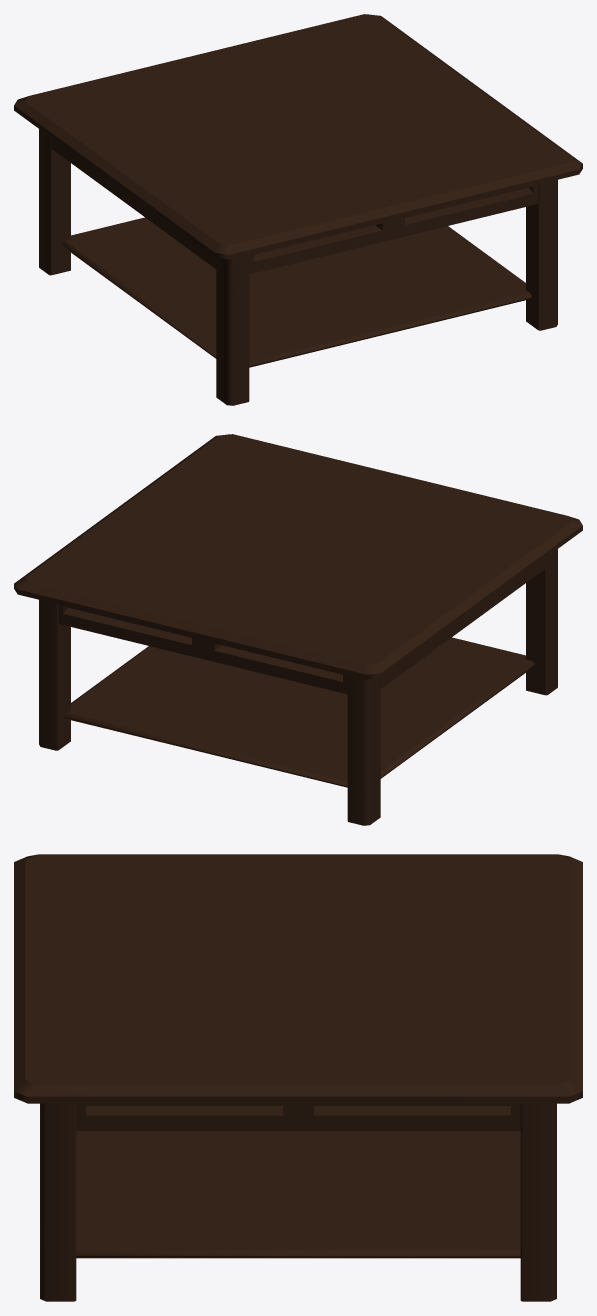
Rendered from coffee_table.fbx.
3 views of the same model, one above another, from view 1: azimuth 30°, elevation 25°; view 2: azimuth 150°, elevation 25°; view 3: azimuth 270°, elevation 25° (orthographic). The views are drawn at different scales.
Visible parts, largest first — view 1: pCube5; view 2: pCube5; view 3: pCube5.
Boxes of the visible parts, x1,y1,x2,y2 form: pCube5: (14,14,582,405); pCube5: (14,434,582,825); pCube5: (14,854,582,1301).
Size of the model in its own units: 2.37 by 1.03 by 2.37.
